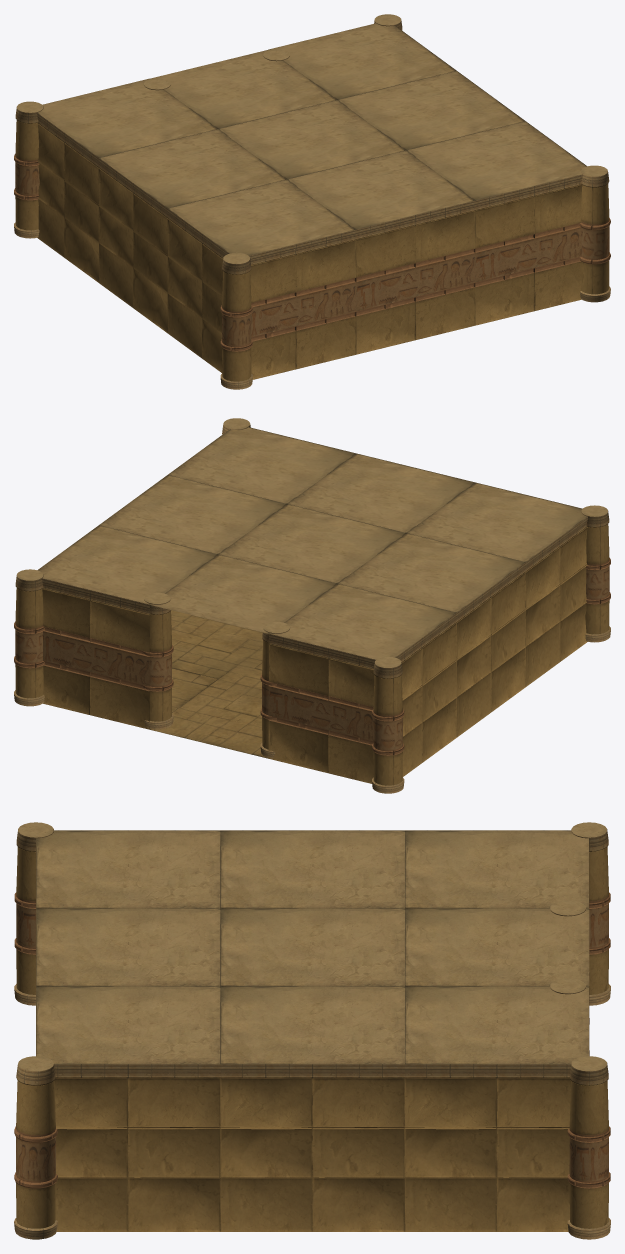
The model's file is m_Room01.FBX.
The picture shows the model from 3 angles, top to bottom: view 1: azimuth 30°, elevation 25°; view 2: azimuth 150°, elevation 25°; view 3: azimuth 270°, elevation 25°; orthographic projection. The views are drawn at different scales.
Visible parts, largest first — view 1: m_Room01; view 2: m_Room01; view 3: m_Room01.
Part boxes in pixels (bbox=[...]): m_Room01: bbox=[14, 14, 610, 389]; m_Room01: bbox=[14, 418, 610, 793]; m_Room01: bbox=[14, 822, 610, 1239].
Size of the model in its own units: 324 by 324 by 100.
Materials: 1 (1 with a texture image).
